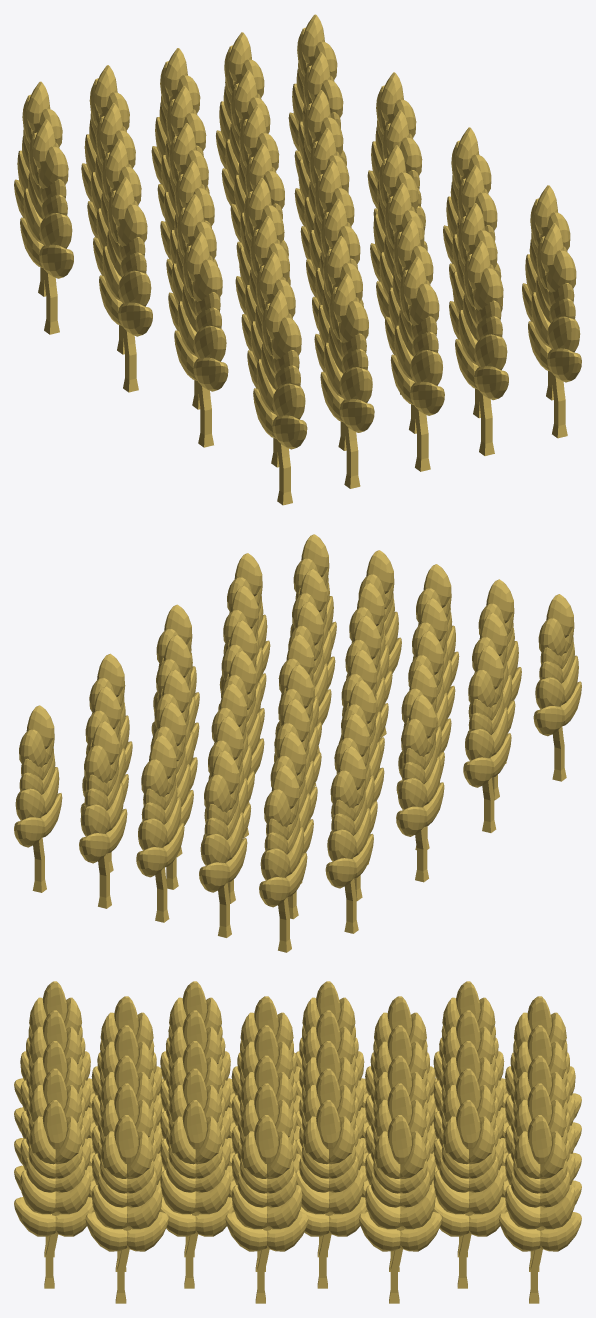
The model's file is campo trigo.fbx.
3 renders of one model, top to bottom at view 1: azimuth 30°, elevation 25°; view 2: azimuth 150°, elevation 25°; view 3: azimuth 270°, elevation 25°, orthographic. The views are drawn at different scales.
Visible parts, largest first — view 1: Cube.001, Cube.021; view 2: Cube.001, Cube.021; view 3: Cube.001, Cube.021.
Boxes of the visible parts, x1=… form: Cube.001: x1=14, y1=14, x2=581, y2=449; Cube.021: x1=38, y1=267, x2=567, y2=505; Cube.001: x1=14, y1=534, x2=581, y2=907; Cube.021: x1=32, y1=726, x2=566, y2=952; Cube.001: x1=14, y1=981, x2=581, y2=1251; Cube.021: x1=44, y1=1212, x2=544, y2=1303.
Size of the model in its own units: 458 by 272 by 755.
